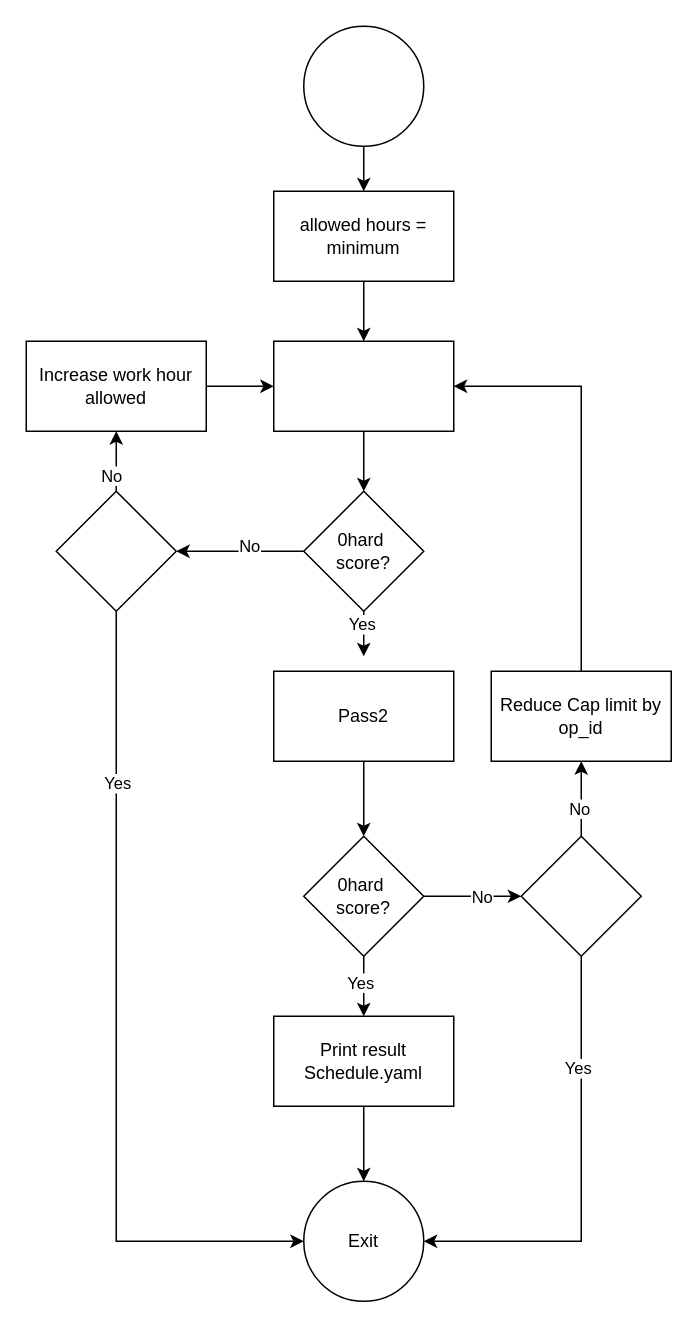
The diagram is 698 pixels wide and 1328 high, and some of its shapes have lost their labels. The shapes that lost their labels are listed below. From the top down, each one's centre as x and y in pixels, then its label:
At point (363, 85): "start".
At point (363, 385): "pass1".
At point (115, 550): "Reach maximum overtime".
At point (580, 895): "Reach loop limit".
